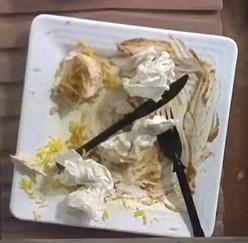taco: (51, 41, 104, 108)
